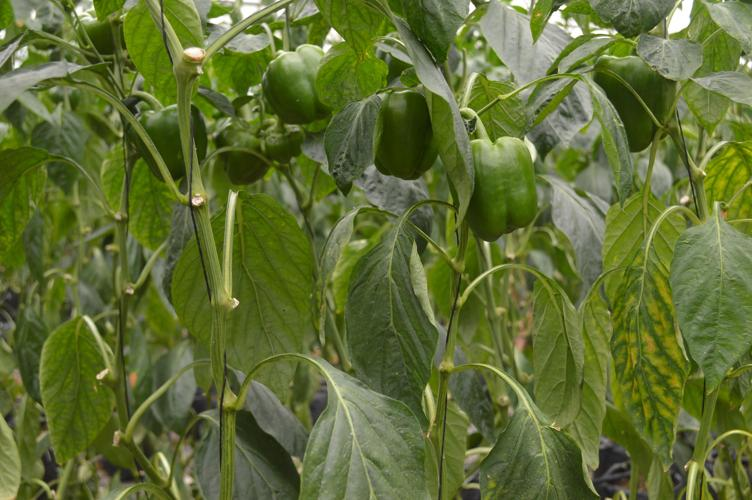BellPepper: (461, 134, 535, 235), (367, 89, 435, 191), (590, 54, 663, 149), (130, 105, 201, 176), (264, 47, 325, 119), (208, 119, 266, 188), (76, 15, 126, 63), (262, 123, 302, 163)
